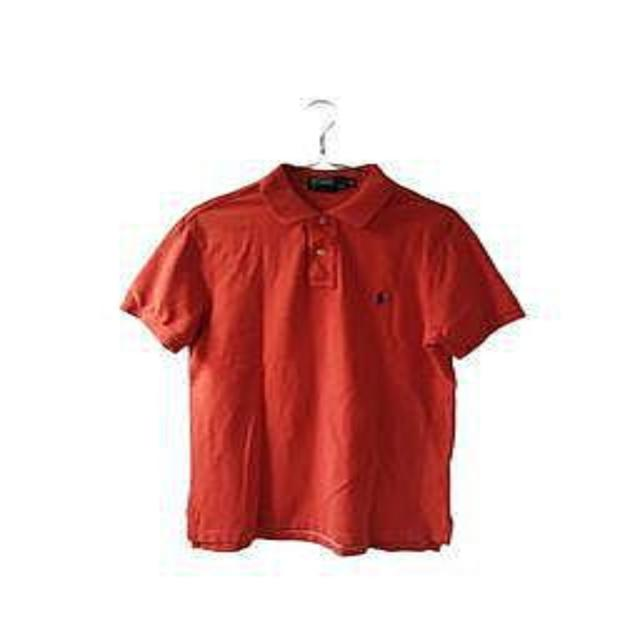T_SHIRT: (105, 152, 557, 562)
